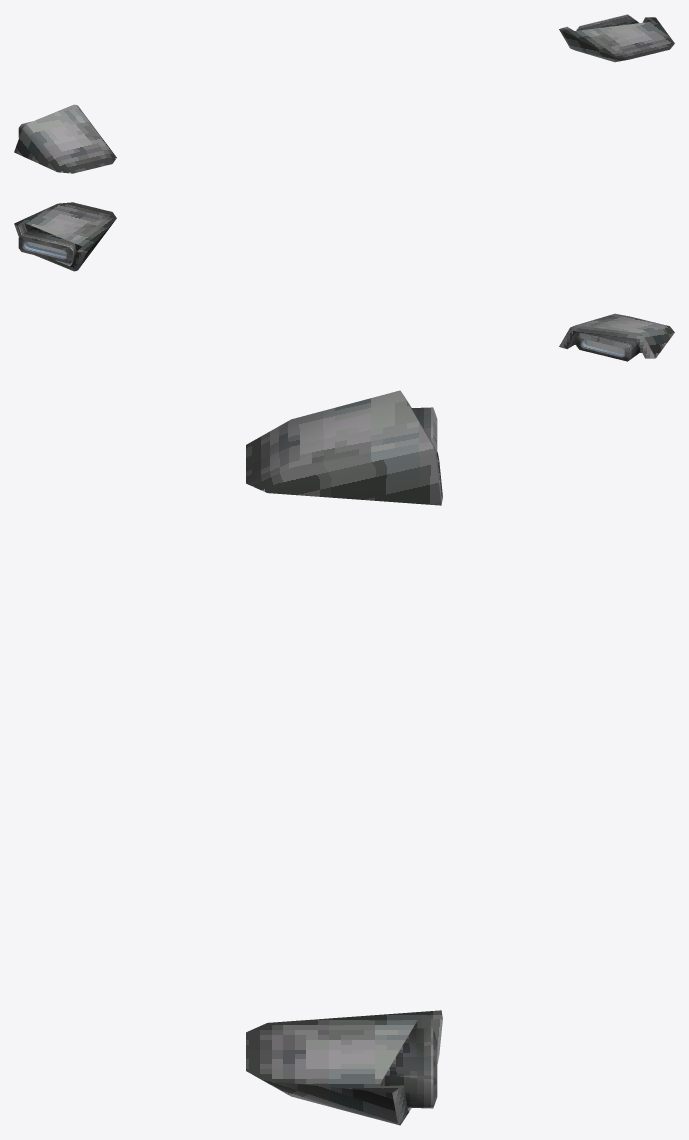
The model's file is xwing_booster_pos_s01_l1.fbx.
3 renders of one model, top to bottom at view 1: azimuth 30°, elevation 25°; view 2: azimuth 150°, elevation 25°; view 3: azimuth 270°, elevation 25°, orthographic. The views are drawn at different scales.
Visible parts, largest first — view 1: mesh_node; view 2: mesh_node; view 3: mesh_node.
Part boxes in pixels (left/top/right/bottom): mesh_node: left=14, top=14, right=674, bottom=173; mesh_node: left=14, top=202, right=674, bottom=361; mesh_node: left=246, top=390, right=442, bottom=1125.
Size of the model in its own units: 8.63 by 0.8791 by 1.15.
Materials: 1 (1 with a texture image).
